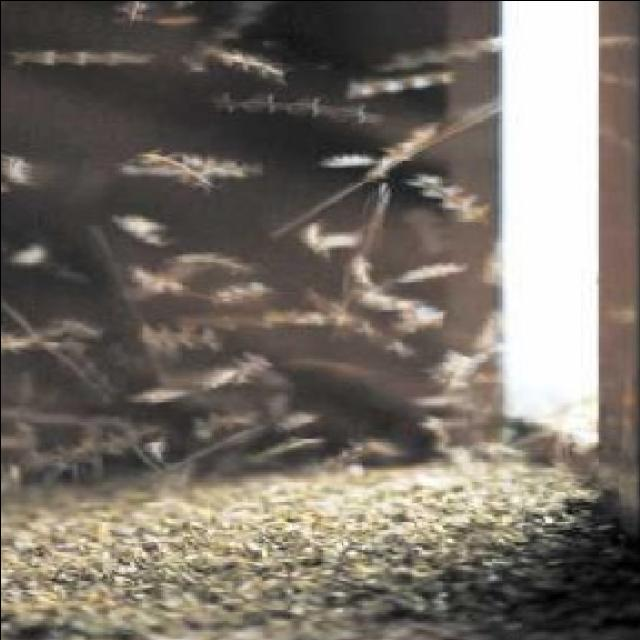brown plant hopper: (120, 149, 258, 187)
